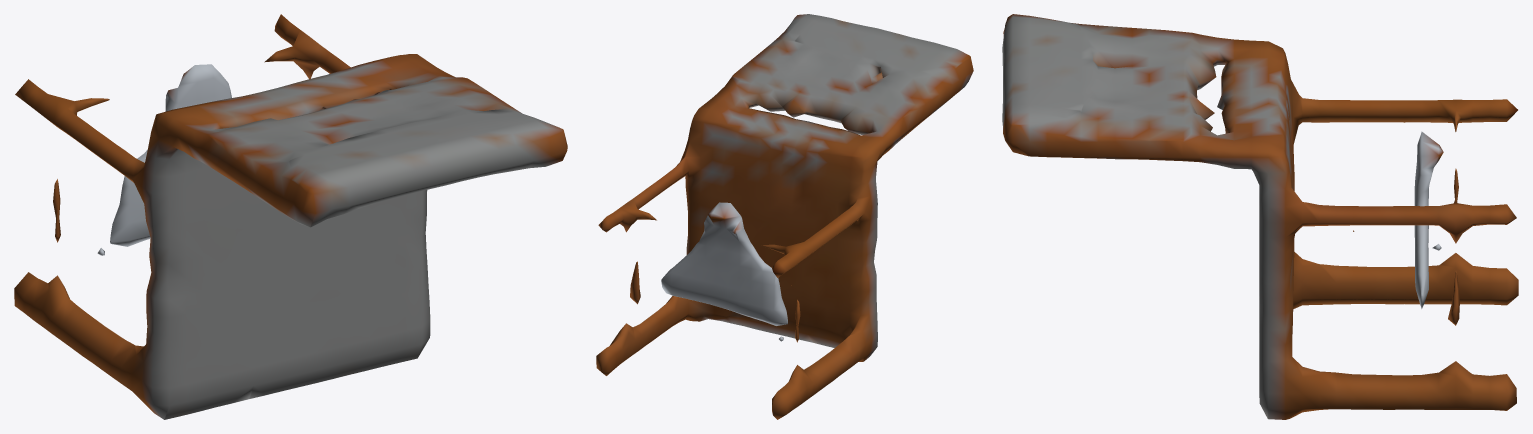
File: chair.obj
The picture shows the model from 3 angles, left to right: view 1: azimuth 30°, elevation 25°; view 2: azimuth 150°, elevation 25°; view 3: azimuth 270°, elevation 25°; orthographic projection. The views are drawn at different scales.
Size of the model in its own units: 0.5527 by 0.6471 by 0.9976.
